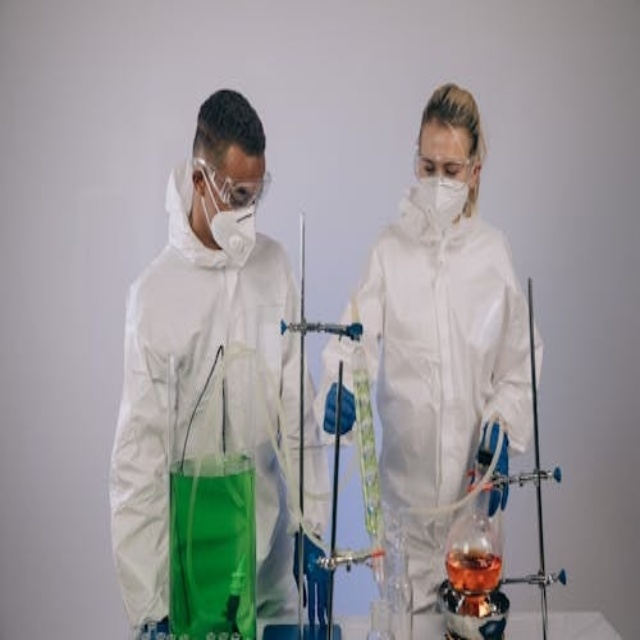Gafas: (195, 159, 271, 211), (414, 148, 477, 180)
Guantes: (468, 415, 522, 517), (291, 527, 338, 640), (315, 371, 366, 448)
Mascara: (198, 172, 257, 267), (413, 165, 472, 228)
